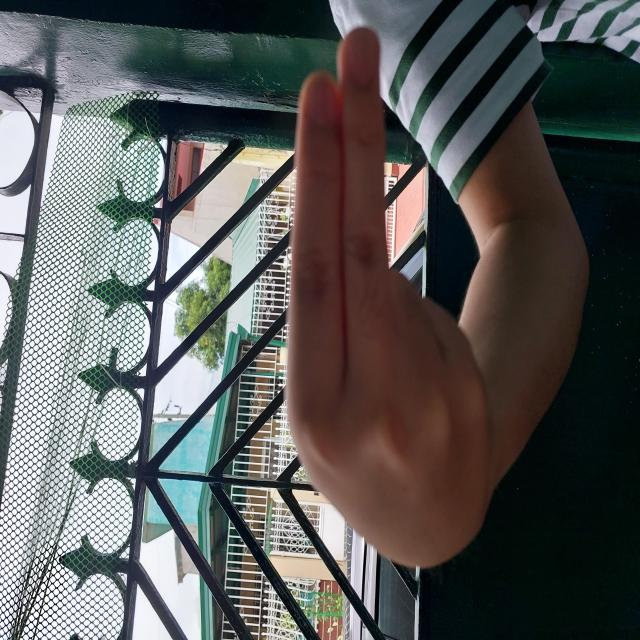H: (69, 282, 616, 498)
